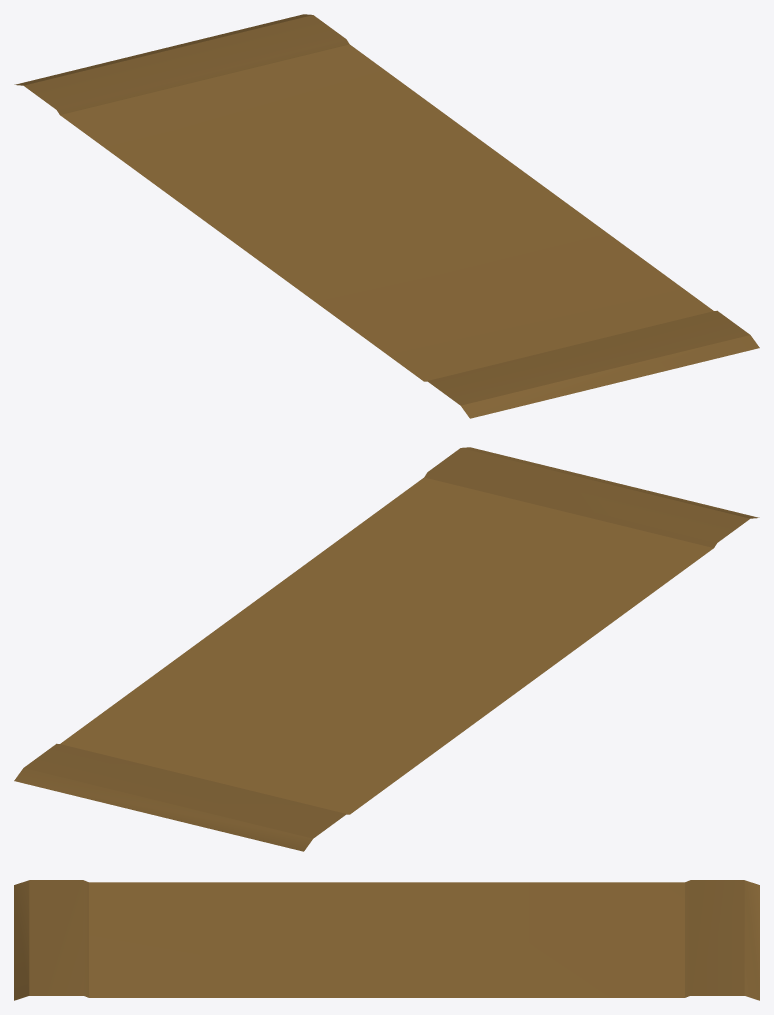
The model's file is SF_Env_Path_Straight_09.fbx.
3 renders of one model, top to bottom at view 1: azimuth 30°, elevation 25°; view 2: azimuth 150°, elevation 25°; view 3: azimuth 270°, elevation 25°, orthographic. The views are drawn at different scales.
Parts seen in each view (by area): view 1: SF_Env_Path_Straight_09; view 2: SF_Env_Path_Straight_09; view 3: SF_Env_Path_Straight_09.
Part boxes in pixels (x1,y1,x2,y2): SF_Env_Path_Straight_09: [14, 14, 759, 418]; SF_Env_Path_Straight_09: [14, 447, 759, 851]; SF_Env_Path_Straight_09: [14, 880, 759, 1000].
Size of the model in its own units: 1.99 by 0.0403 by 5.42.
